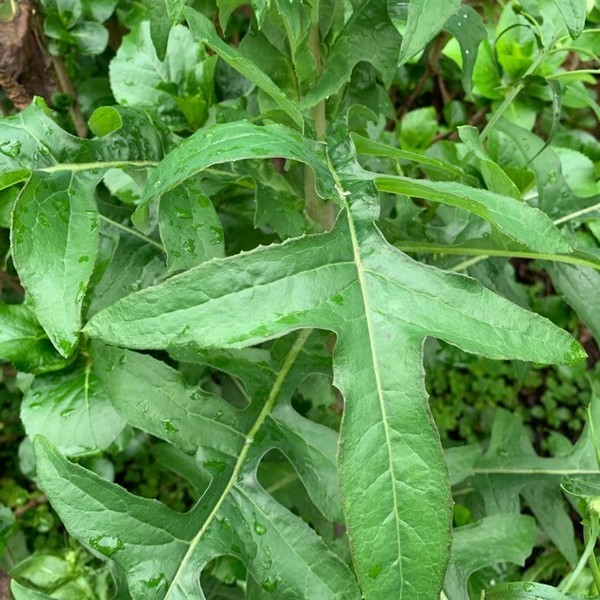obstacle: (49, 89, 544, 579)
